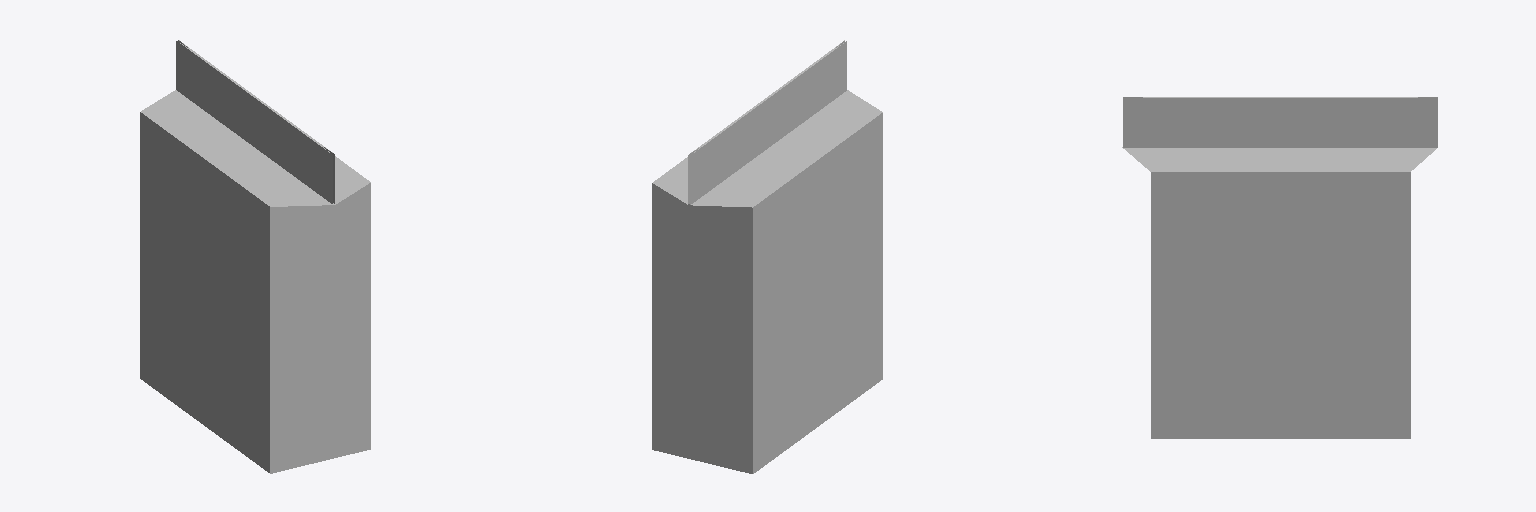
File: hanes_tube_socks.obj
3 renders of one model, left to right at view 1: azimuth 30°, elevation 25°; view 2: azimuth 150°, elevation 25°; view 3: azimuth 270°, elevation 25°, orthographic.
Size of the model in its own units: 0.085 by 0.255 by 0.2305.